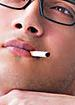smoke: (29, 51, 50, 57)
